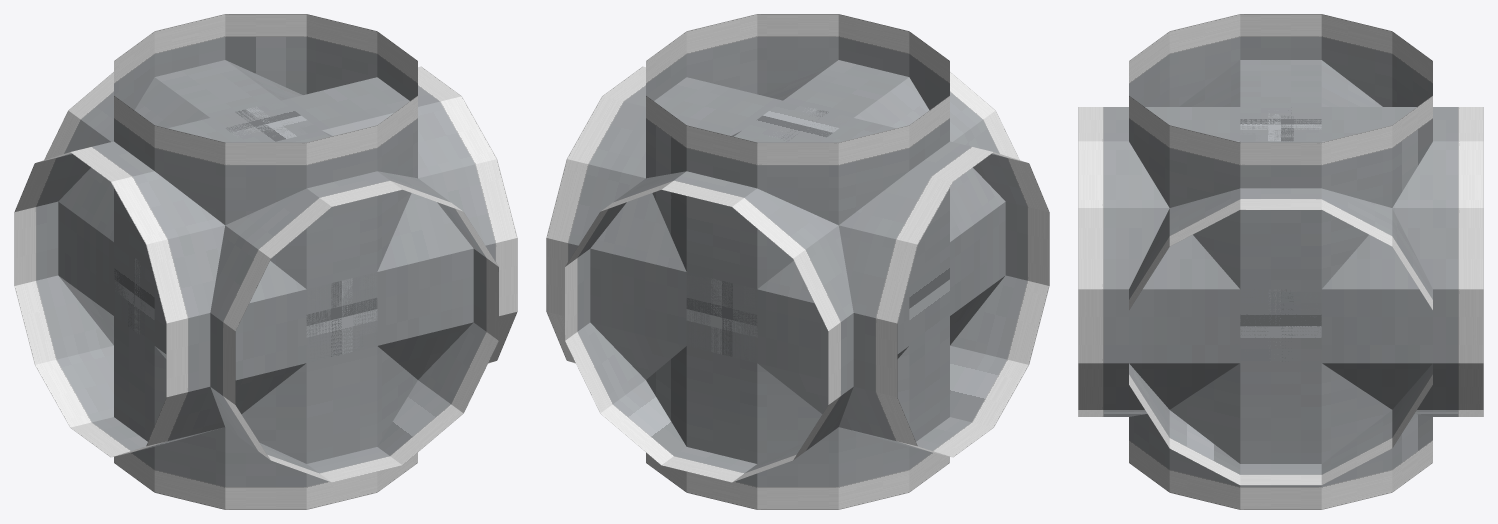
Rendered from connection_63.obj.
3 renders of one model, left to right at view 1: azimuth 30°, elevation 25°; view 2: azimuth 150°, elevation 25°; view 3: azimuth 270°, elevation 25°, orthographic.
Bounding box in the file's own units: 1 × 1 × 1.
